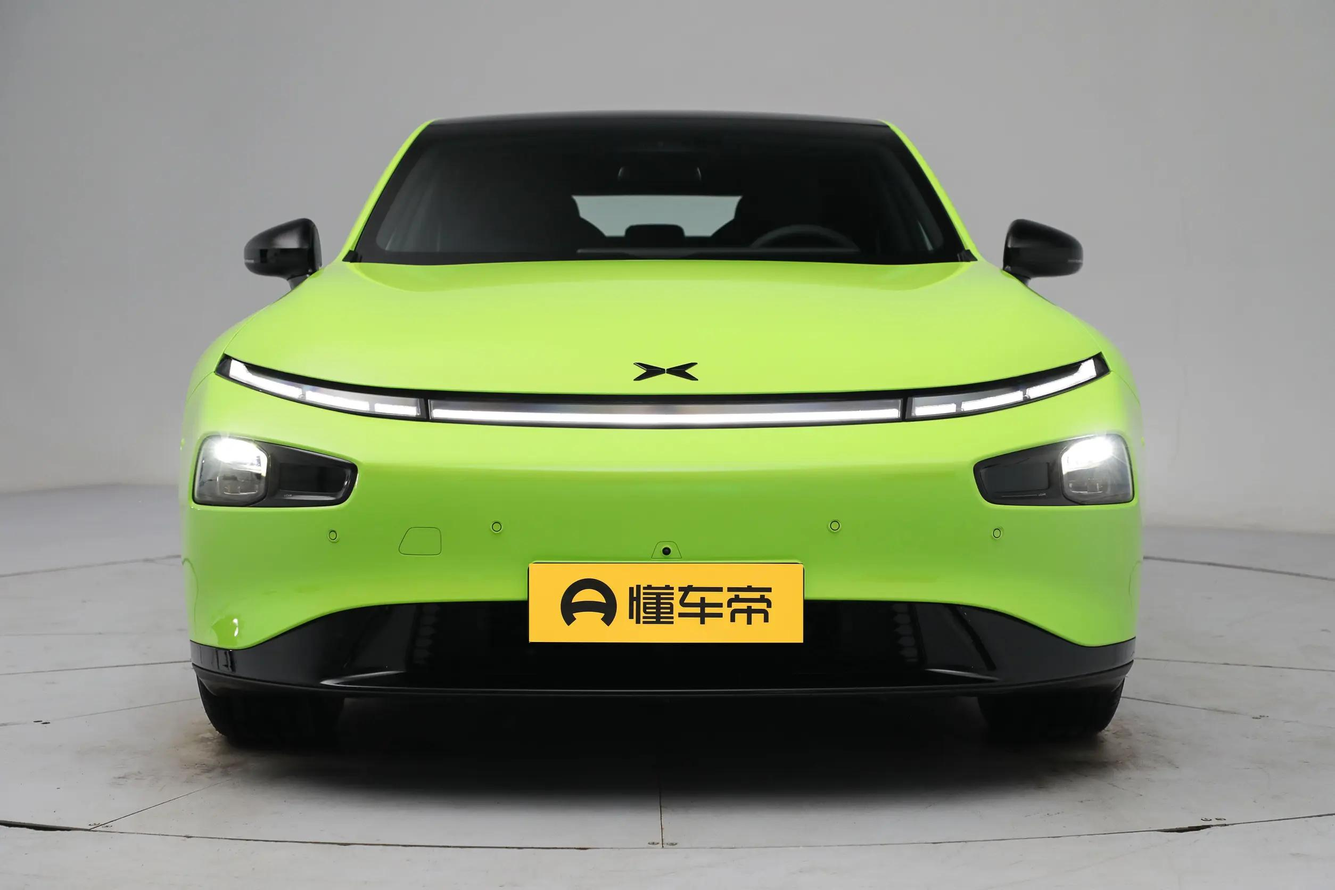XPeng Motors: (633, 362, 699, 381)
